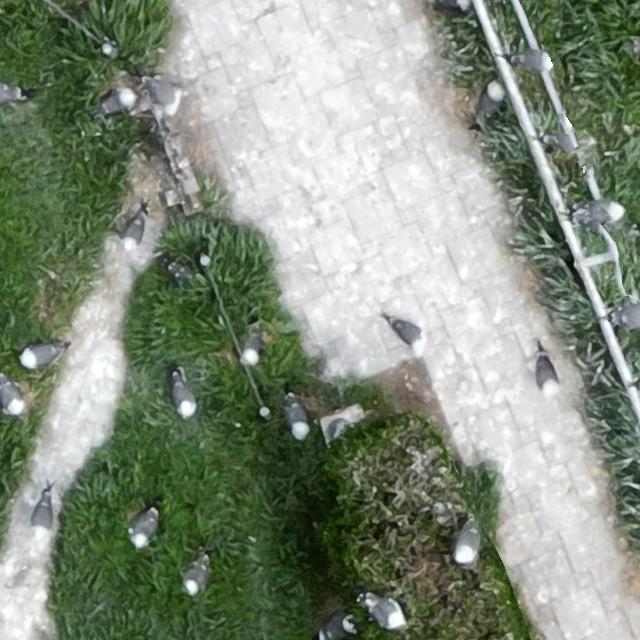umineko: (144, 73, 183, 112), (364, 594, 408, 628), (536, 346, 558, 396), (320, 611, 360, 638), (456, 524, 480, 563), (576, 200, 620, 220), (172, 380, 195, 418), (392, 320, 424, 346), (131, 510, 155, 544), (23, 343, 60, 365), (288, 400, 308, 438), (101, 90, 135, 112), (509, 52, 550, 70), (185, 560, 207, 593), (1, 382, 22, 413), (123, 218, 143, 249), (32, 500, 50, 533), (242, 329, 260, 361), (619, 302, 640, 326), (482, 83, 502, 108), (1, 84, 22, 103), (432, 0, 465, 10), (99, 42, 117, 58)
